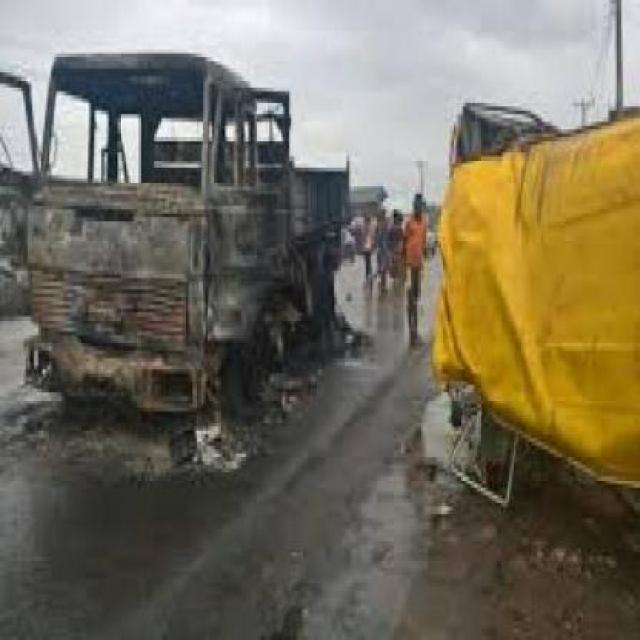accident: (2, 50, 356, 432)
